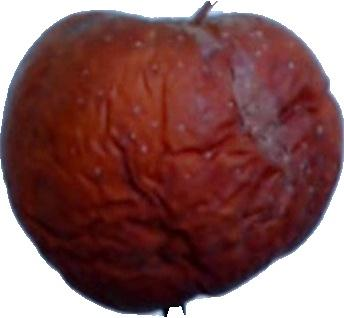Apple Overripe: (0, 0, 344, 315)
